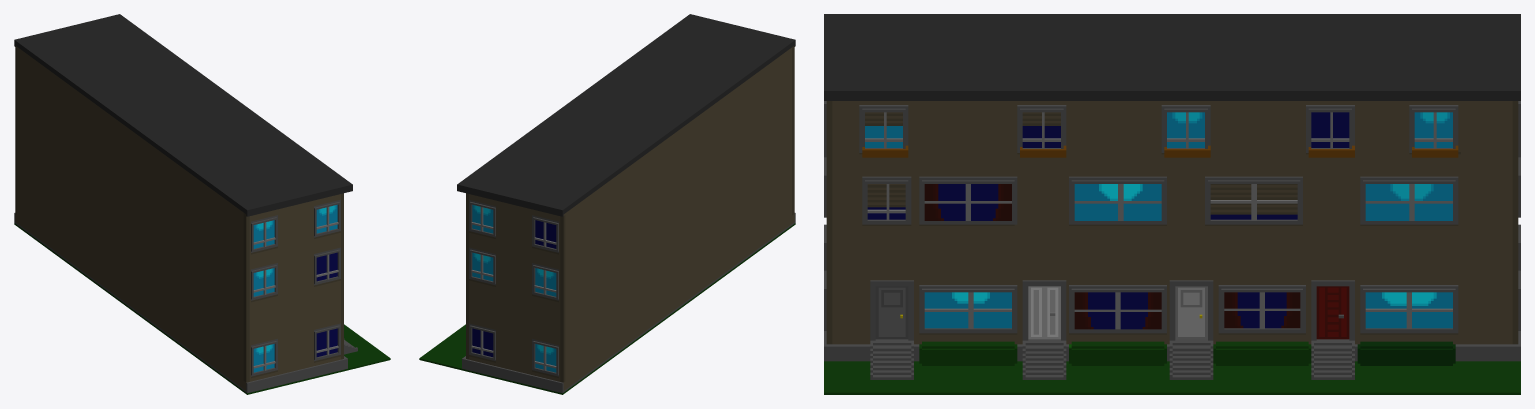
File: House4.obj
The picture shows the model from 3 angles, left to right: view 1: azimuth 30°, elevation 25°; view 2: azimuth 150°, elevation 25°; view 3: azimuth 270°, elevation 25°; orthographic projection. The views are drawn at different scales.
Size of the model in its own units: 9.1 by 11.2 by 25.6.
1 material, 1 textured.
